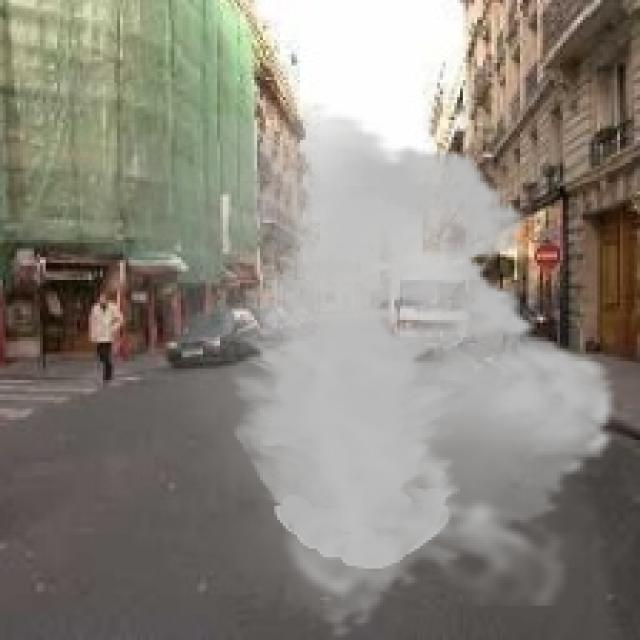smoke: (74, 103, 640, 637)
